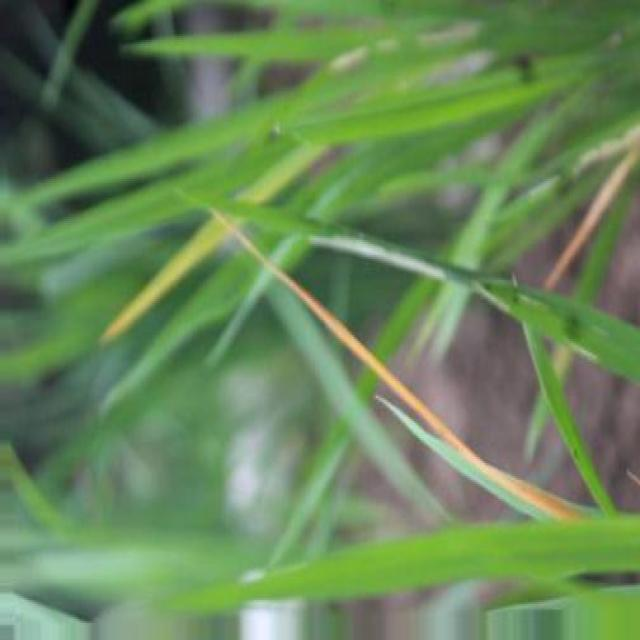Rice Tungro: (212, 209, 585, 520), (101, 219, 226, 343)
